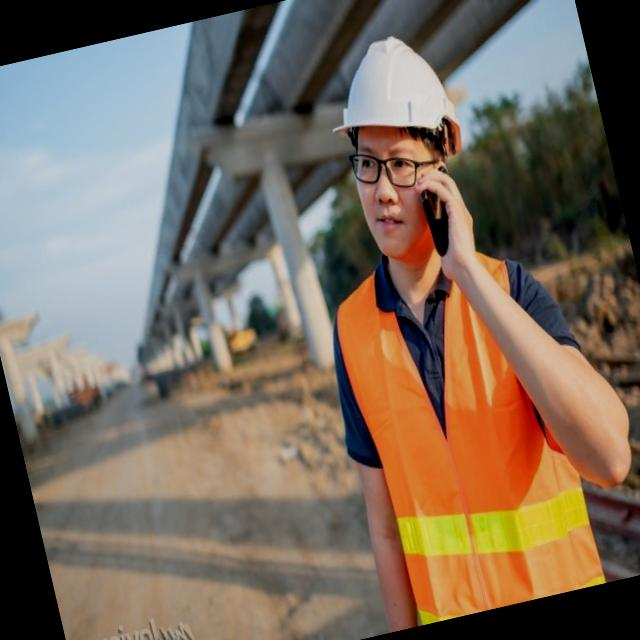goggles: (338, 132, 454, 204)
helmet: (313, 18, 471, 156)
vest: (332, 232, 605, 612)
